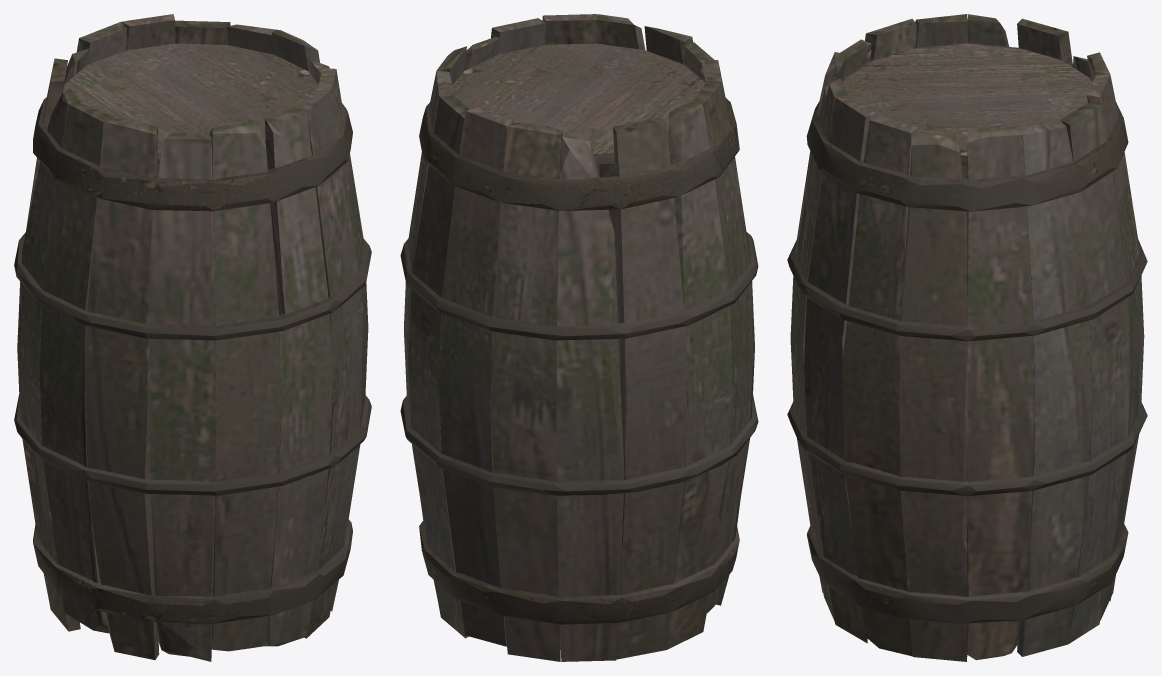
The model's file is barrel002.fbx.
3 views of the same model, side by side, from view 1: azimuth 30°, elevation 25°; view 2: azimuth 150°, elevation 25°; view 3: azimuth 270°, elevation 25° (orthographic).
Visible parts, largest first — view 1: barrel002; view 2: barrel002; view 3: barrel002.
Part boxes in pixels (x1,y1,x2,y2): barrel002: (14, 14, 371, 661); barrel002: (400, 14, 758, 661); barrel002: (787, 14, 1147, 661).
Size of the model in its own units: 80.19 by 130 by 80.5.
